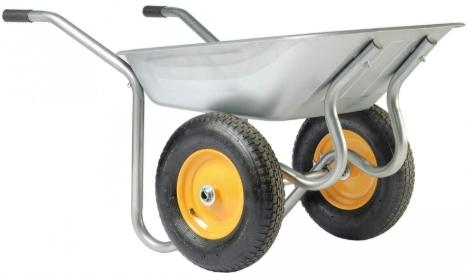BROUETTE: (0, 6, 467, 272)
